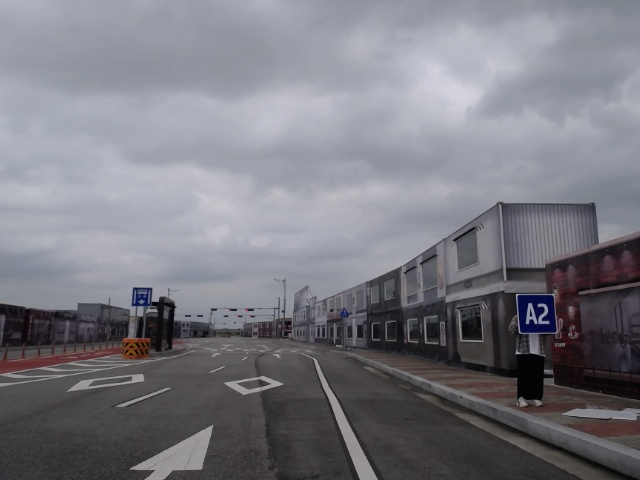delivery_a2: (516, 294, 558, 334)
